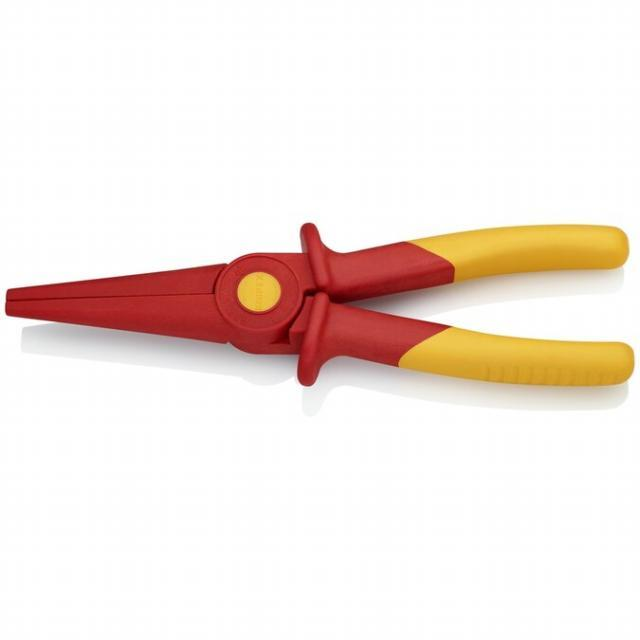pliers: (2, 216, 638, 399)
